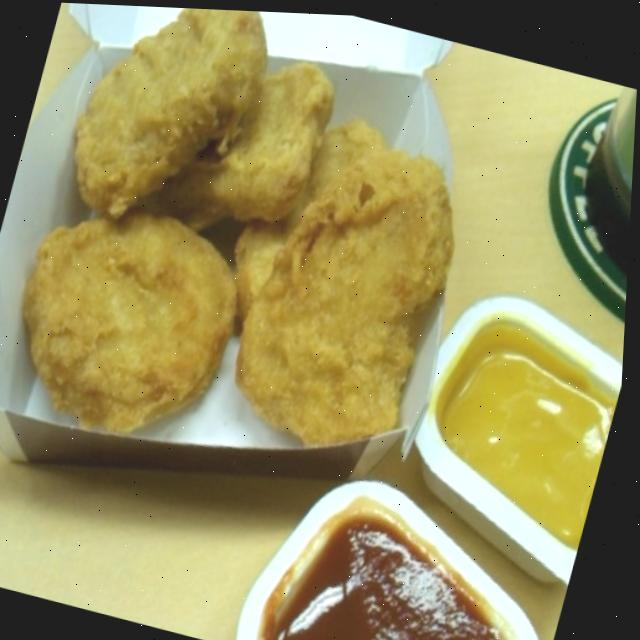蔬菜料理: (271, 19, 640, 571)
